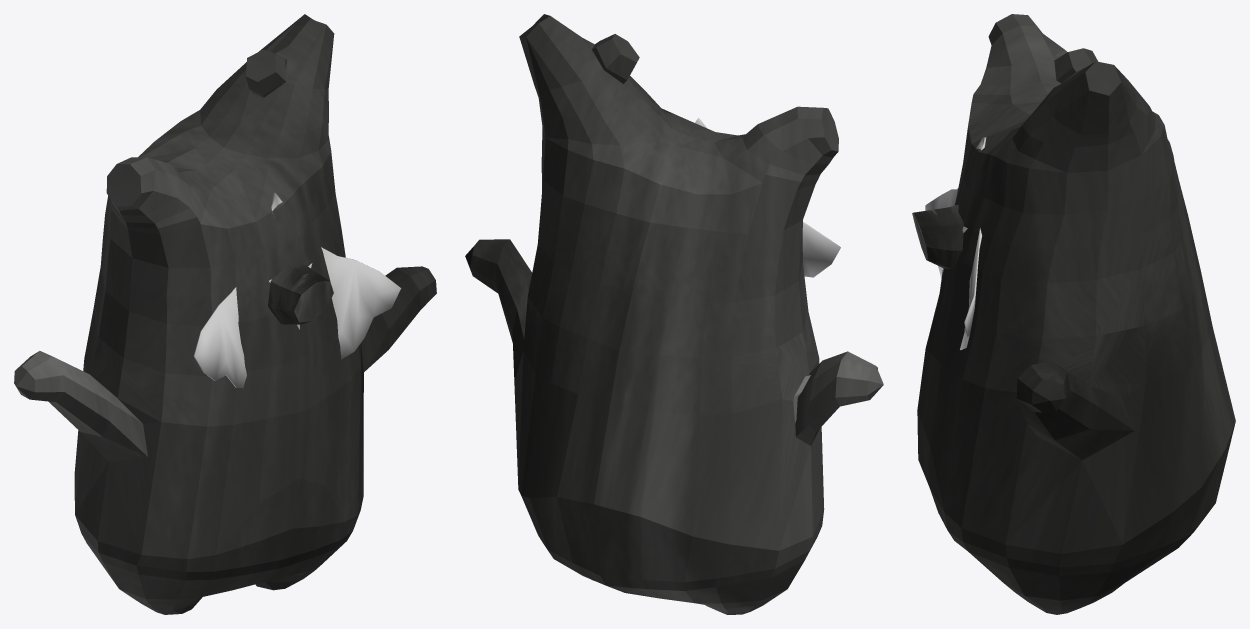
File: frame_0031.obj
The picture shows the model from 3 angles, left to right: view 1: azimuth 30°, elevation 25°; view 2: azimuth 150°, elevation 25°; view 3: azimuth 270°, elevation 25°; orthographic projection. The views are drawn at different scales.
Visible parts, largest first — view 1: korok, leaf, nose; view 2: korok, leaf; view 3: korok, nose, leaf.
Part boxes in pixels (<box>): korok: <box>14,14,436,614</box>; leaf: <box>193,193,401,388</box>; nose: <box>268,264,333,324</box>; korok: <box>465,14,883,614</box>; leaf: <box>695,117,840,277</box>; korok: <box>917,14,1235,614</box>; nose: <box>912,205,963,268</box>; leaf: <box>925,137,986,349</box>.
Size of the model in its own units: 1.83 by 2.32 by 1.18.
